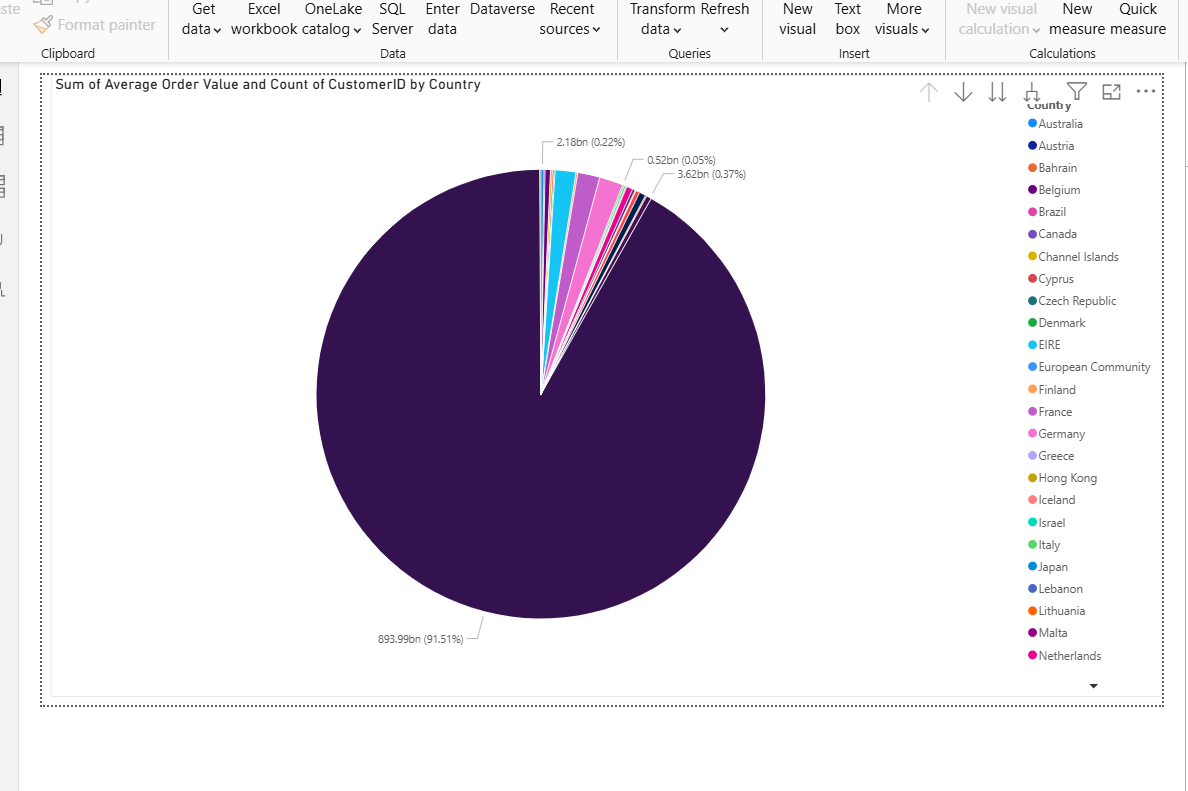

What the dashboard file says about the page in this screenshot:
{"tool":"powerbi","page":{"name":"Page 6","canvas":[1280,720],"ordinal":5},"visuals":[{"type":"pieChart","fields":{"Y":["Sum(data.Average Order Value)","CountNonNull(data.CustomerID)"],"Category":["data.Country","data.Description","data.InvoiceDate.Variation.Date Hierarchy.Year","data.InvoiceDate.Variation.Date Hierarchy.Quarter","data.InvoiceDate.Variation.Date Hierarchy.Month","data.InvoiceDate.Variation.Date Hierarchy.Day"]},"box":[9.6,0,1270.7,710.8],"z":0}]}

Visuals, with their boxes on the page's 1280x720 design canvas (x1, y1, x2, y2). These are canvas units, not pixel positions in the 1188x791 screenshot, which may show the page scaled, cropped or inside an application window:
pieChart - Sum(data.Average Order Value) x CountNonNull(data.CustomerID): locate(10, 0, 1280, 711)
